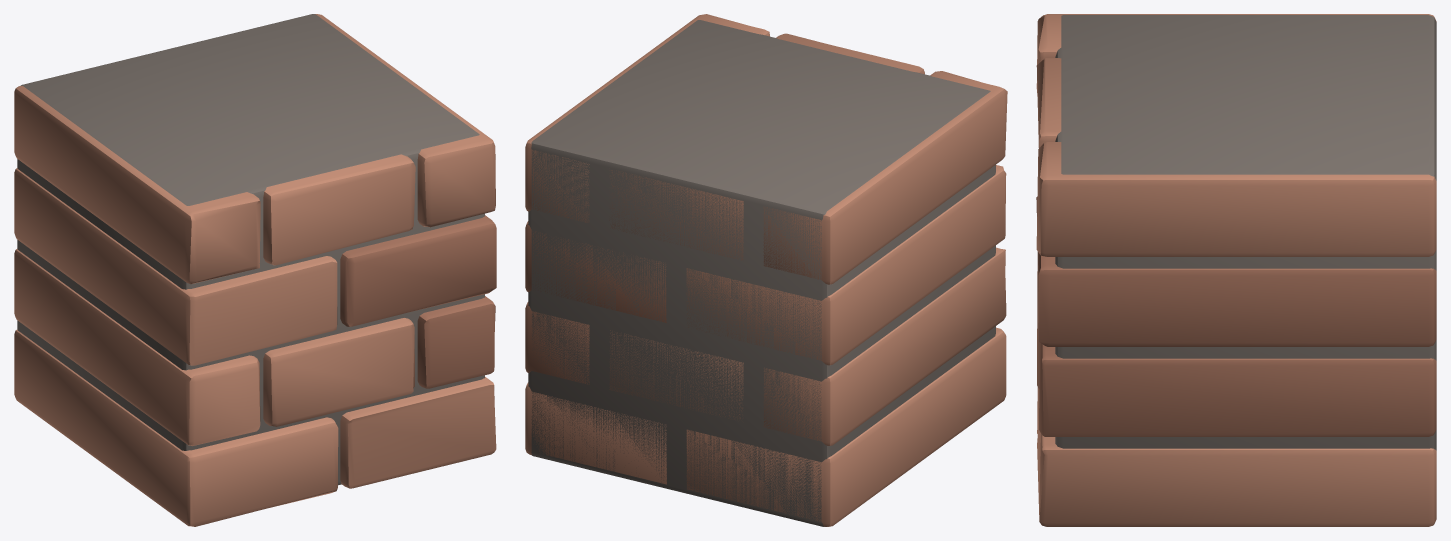
The model's file is tile_wall_brick.glb.
3 views of the same model, side by side, from view 1: azimuth 30°, elevation 25°; view 2: azimuth 150°, elevation 25°; view 3: azimuth 270°, elevation 25° (orthographic). The views are drawn at different scales.
Parts seen in each view (by area): view 1: tile_wall_brick; view 2: tile_wall_brick; view 3: tile_wall_brick.
Part boxes in pixels (x1,y1,x2,y2): tile_wall_brick: (14, 14, 496, 526); tile_wall_brick: (525, 14, 1007, 526); tile_wall_brick: (1036, 14, 1436, 526).
Bounding box in the file's own units: 0.5 × 0.49 × 0.5037.
